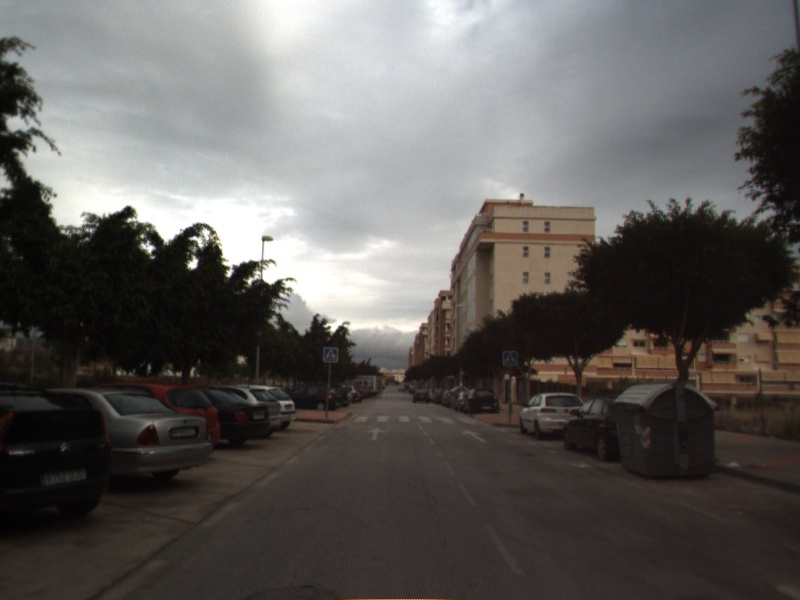STRAIGHT: (460, 428, 489, 444), (364, 426, 389, 442)
